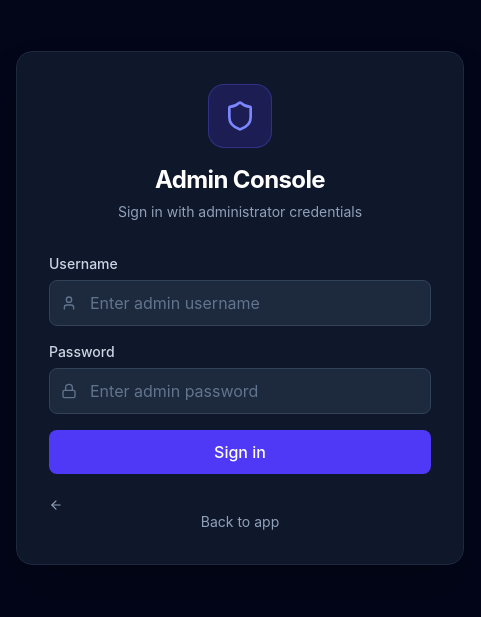
Test: AdminLoginPage › shows an error message on 401 (wrong credentials)
In the field with id "admin-username": (240, 303) [49, 280, 431, 326], type "admin"
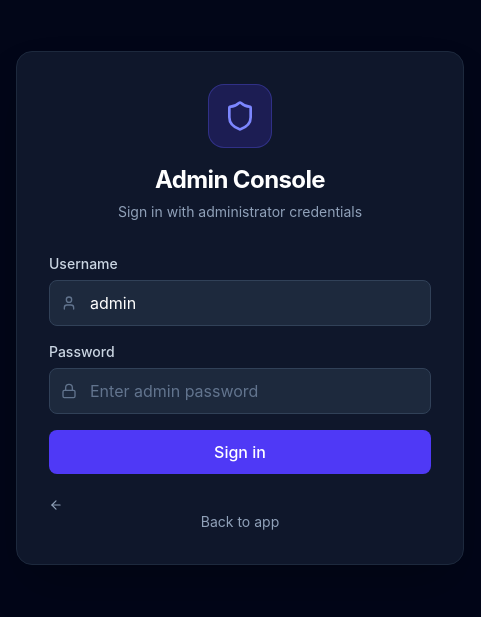
In the password field with id "admin-password": (240, 391) [49, 368, 431, 414], type "wrong"
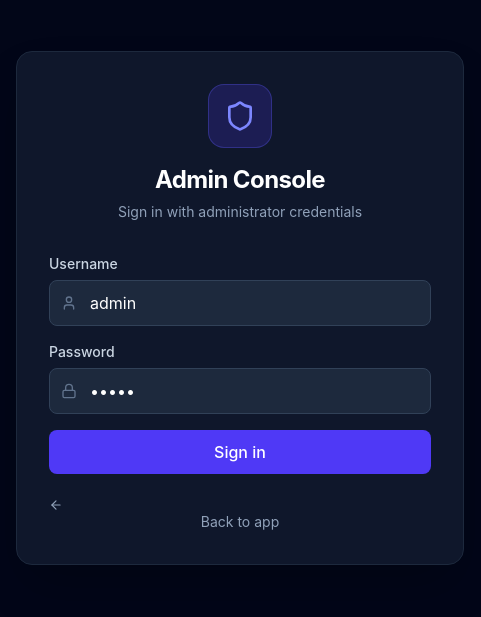
Submit the form, box [49, 254, 431, 474]
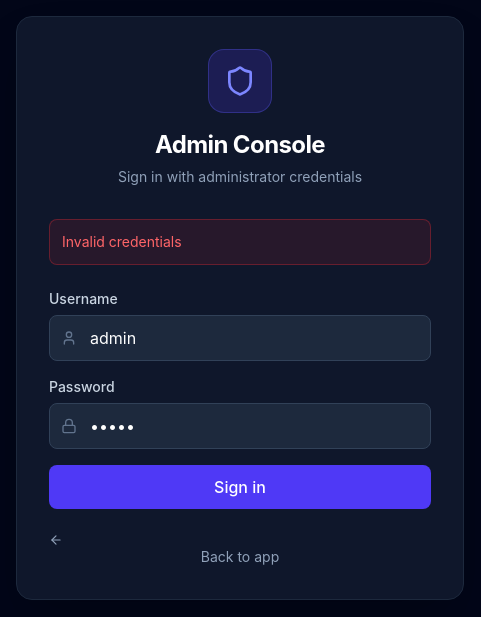
Expected: the text "Invalid credentials" is shown, [62, 233, 182, 250]
